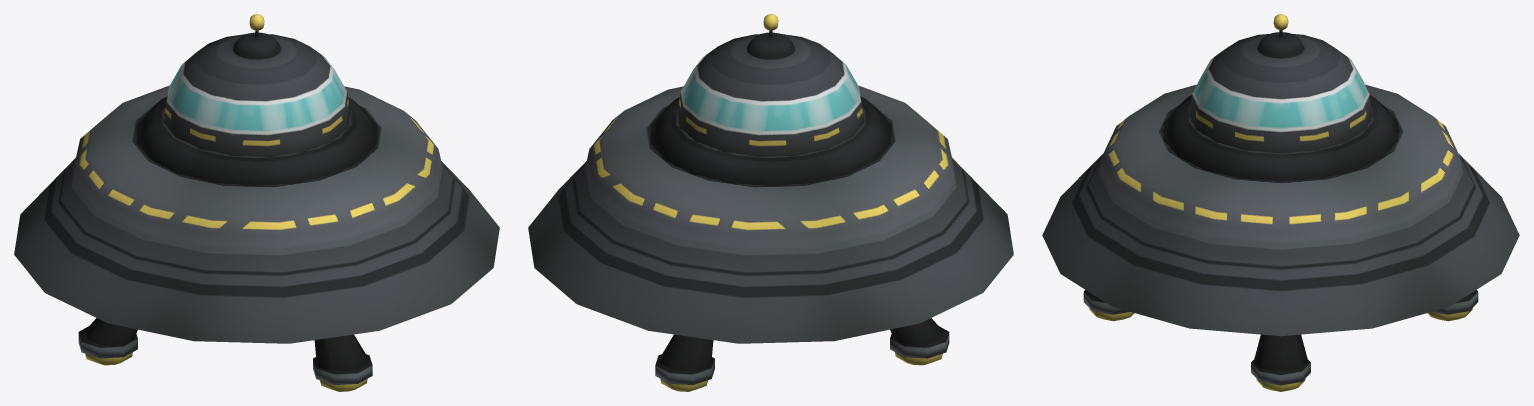
The picture shows the model from 3 angles, left to right: view 1: azimuth 30°, elevation 25°; view 2: azimuth 150°, elevation 25°; view 3: azimuth 270°, elevation 25°; orthographic projection. The views are drawn at different scales.
Parts seen in each view (by area): view 1: S028; view 2: S028; view 3: S028.
Part boxes in pixels (left/top/right/bottom): S028: left=14, top=14, right=499, bottom=391; S028: left=528, top=14, right=1013, bottom=391; S028: left=1042, top=14, right=1519, bottom=391.
Bounding box in the file's own units: 56.04 × 39.19 × 56.04.
Materials: 1 (1 with a texture image).
